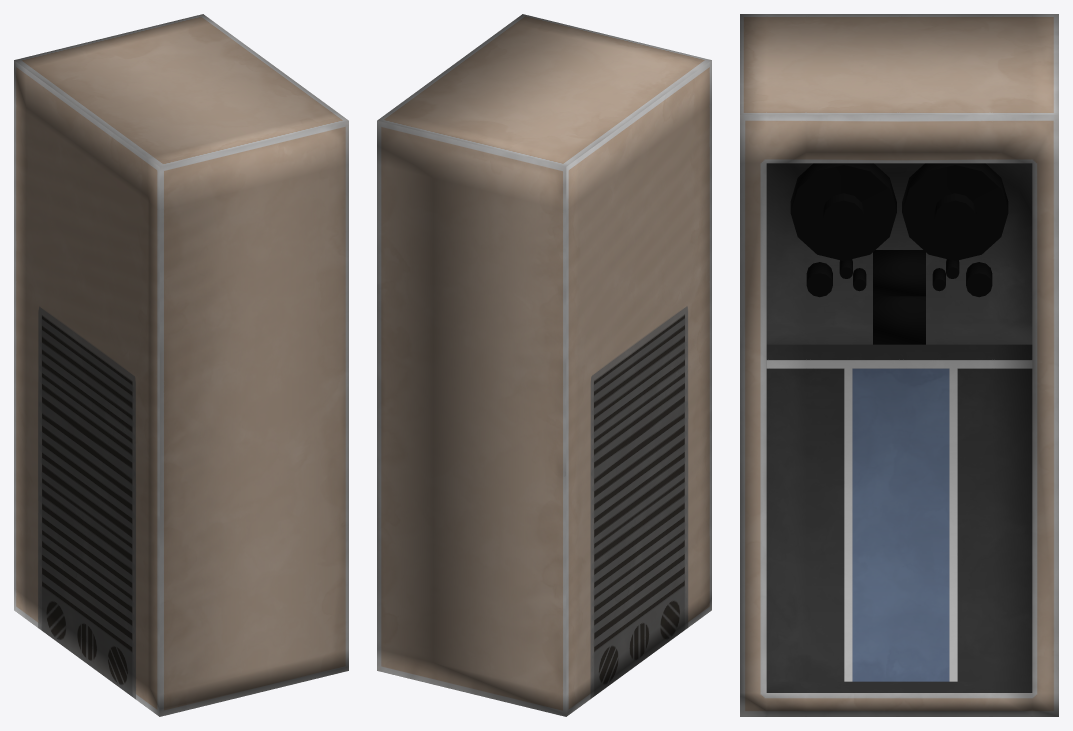
The model's file is ComputerReelTall.fbx.
The picture shows the model from 3 angles, left to right: view 1: azimuth 30°, elevation 25°; view 2: azimuth 150°, elevation 25°; view 3: azimuth 270°, elevation 25°; orthographic projection. The views are drawn at different scales.
Visible parts, largest first — view 1: MainBody; view 2: MainBody; view 3: MainBody, TapeReel, BoxBottom, BoxTop, RollerA, RollerC.
Part boxes in pixels (<box>): MainBody: <box>14,14,348,716</box>; MainBody: <box>377,14,711,716</box>; MainBody: <box>740,14,1058,716</box>; TapeReel: <box>790,163,1008,260</box>; BoxBottom: <box>873,296,925,344</box>; BoxTop: <box>873,250,925,296</box>; RollerA: <box>806,262,992,297</box>; RollerC: <box>853,268,945,291</box>.
Size of the model in its own units: 90 by 250 by 120.
